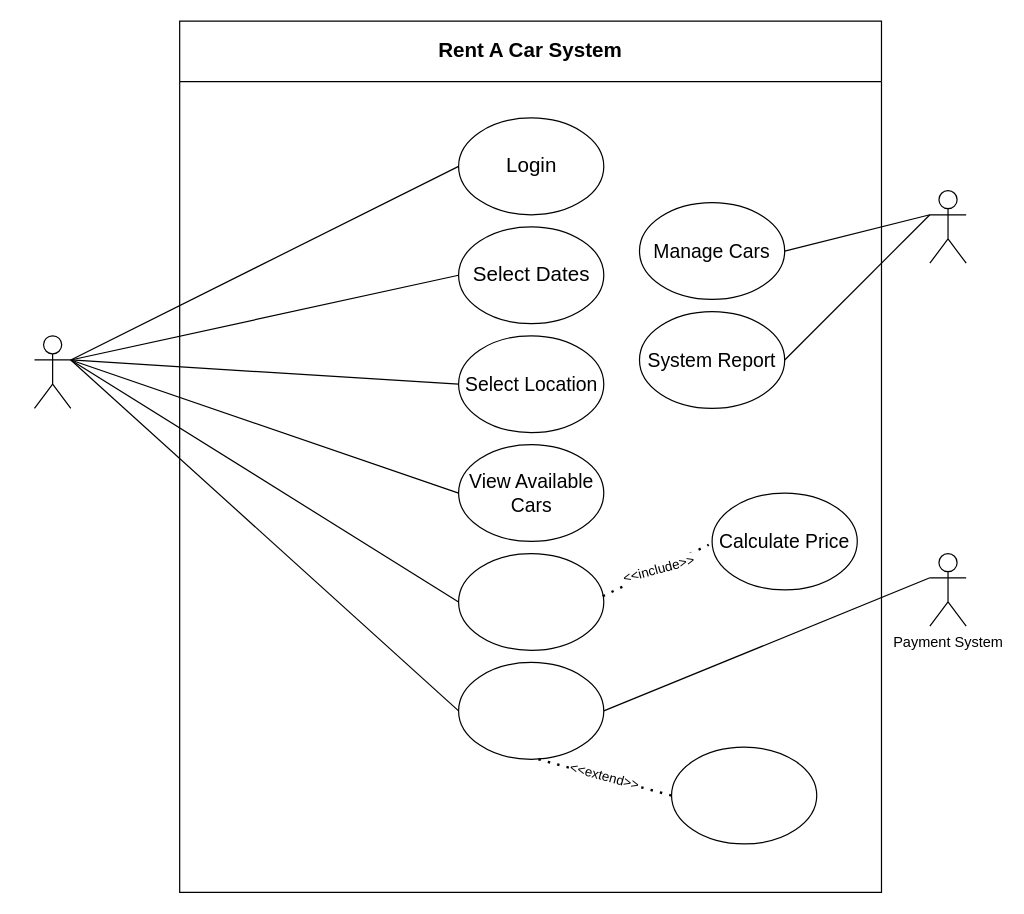
This 1024x914 diagram has some shape labels left out. The shapes that lost their labels are listed below. From the top down, each one's centre as x and y in pixels, then its label:
At pixel 947 226: "Admin".
At pixel 52 371: "Customer".
At pixel 530 601: "Confirm Reservation".
At pixel 530 710: "Make Payment".
At pixel 743 795: "Payment Failed".
